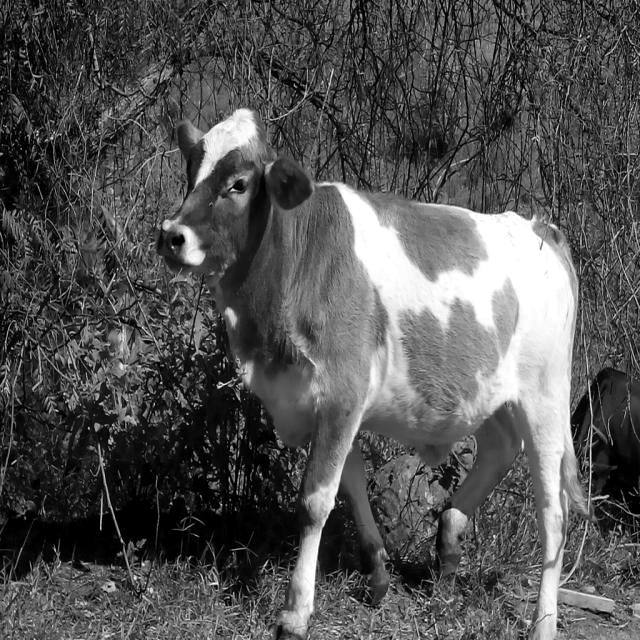COW: (158, 109, 588, 640)
